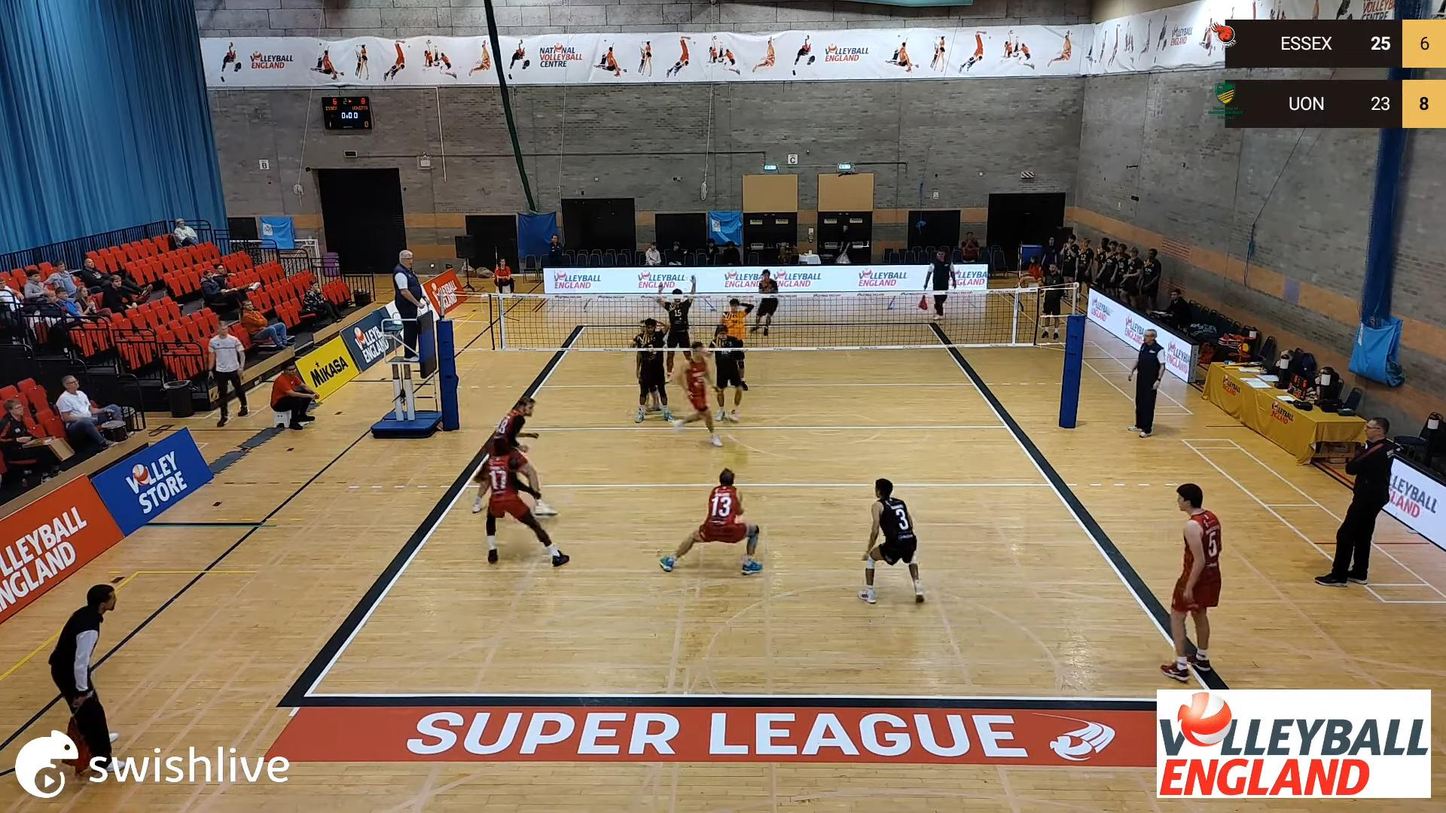ricezione: (662, 471, 769, 579)
